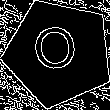O_S: (34, 26, 84, 81)
